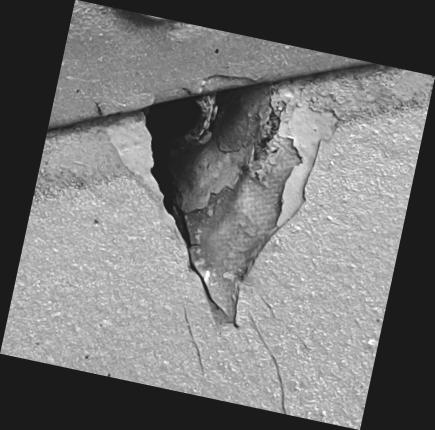crack: (1, 1, 435, 430)
